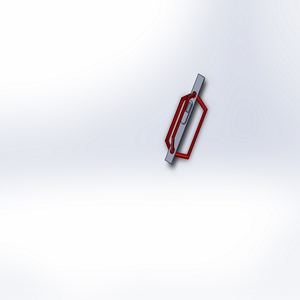submarine: (156, 68, 218, 179)
